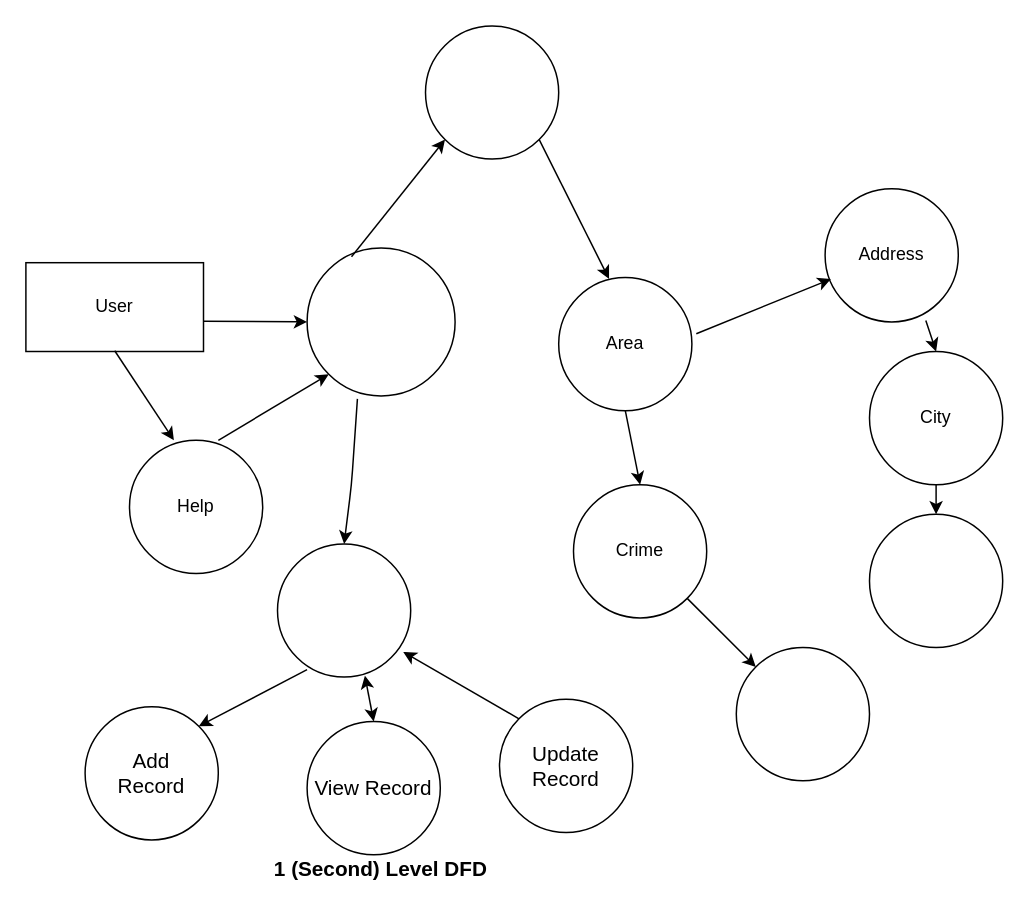
Image size: 1029x910. Some labels were removed from this diagram. The shapes that lost their labels are listed below. From the top down, each one's box as (x1, y1, x2, y2) in pixels, then its label:
(424, 24, 559, 159): Searching
(306, 246, 455, 396): Map Processing
(868, 513, 1003, 648): Place
(276, 542, 411, 677): Admin
(735, 646, 870, 781): Rating
